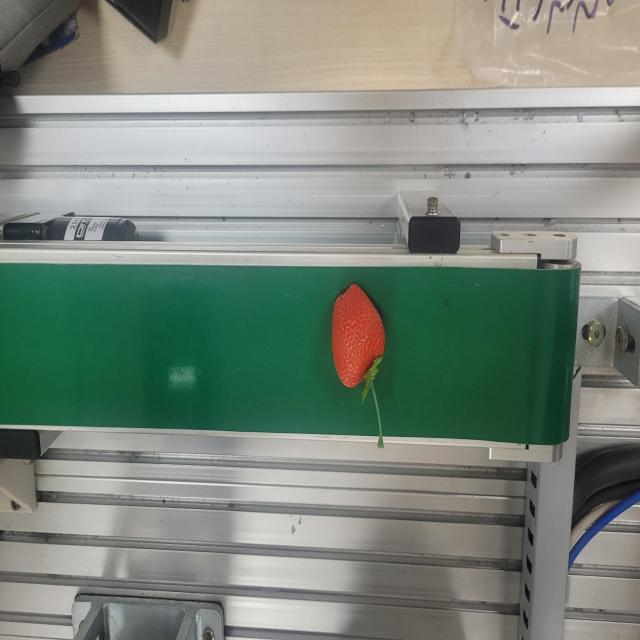Large Ripe Strawberry: (326, 282, 392, 396)
